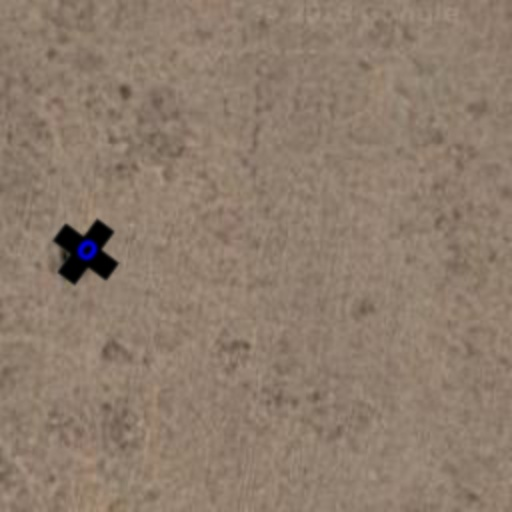cross: (38, 204, 134, 300)
